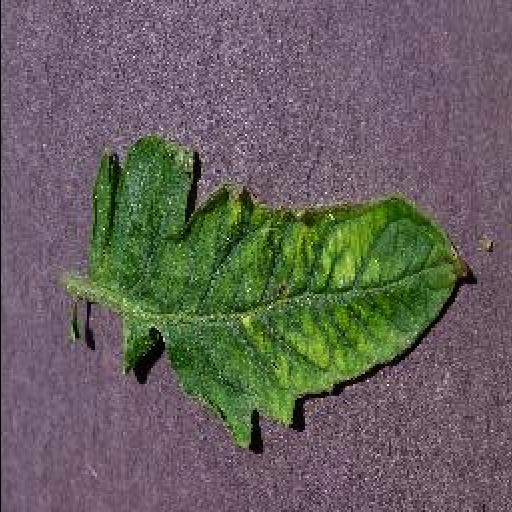disease_tomato: (86, 129, 474, 451)
